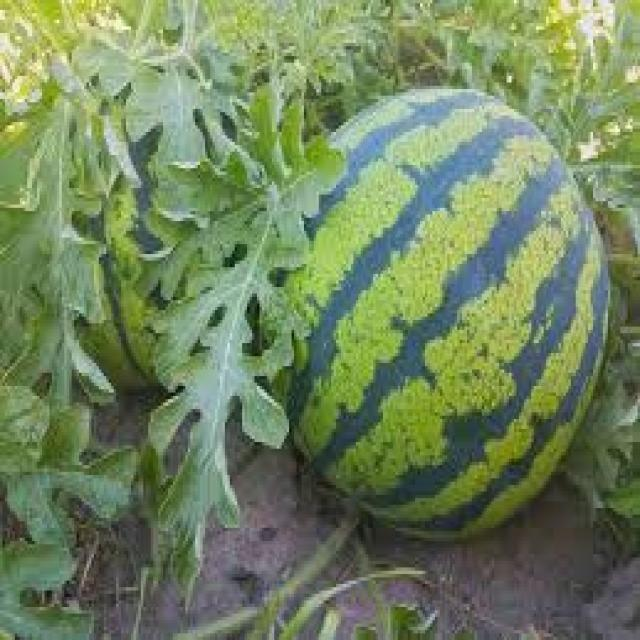Watermelon: (285, 110, 610, 533)
